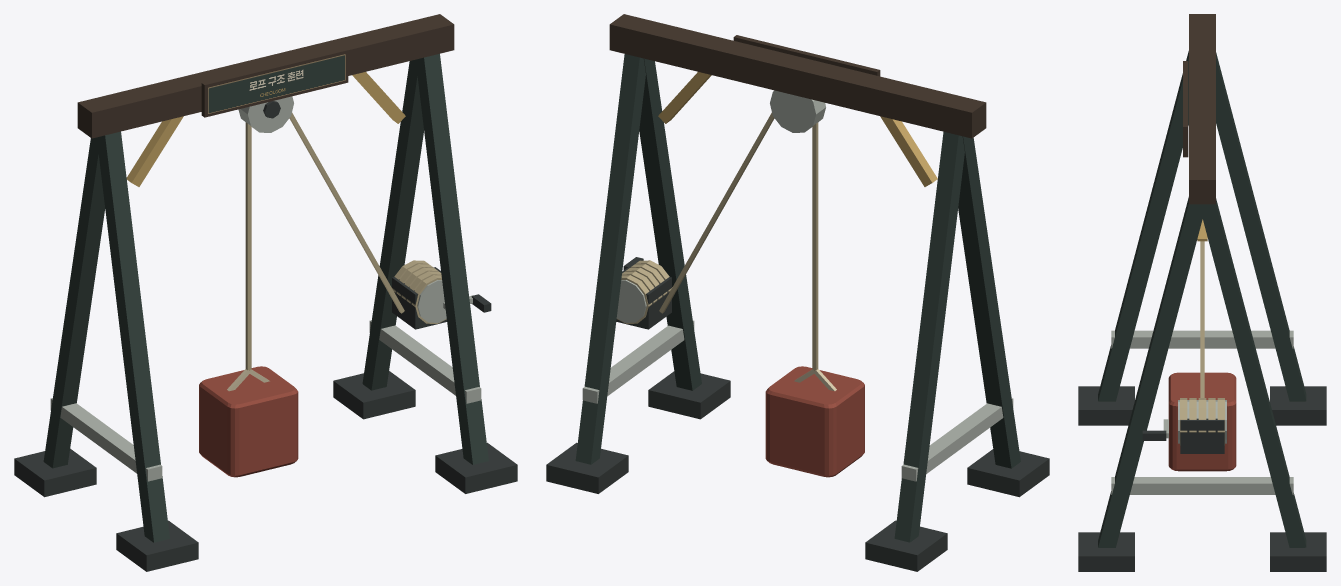
The model's file is 07_Rope_Rescue_Frame.fbx.
3 renders of one model, left to right at view 1: azimuth 30°, elevation 25°; view 2: azimuth 150°, elevation 25°; view 3: azimuth 270°, elevation 25°, orthographic. The views are drawn at different scales.
Visible parts, largest first — view 1: Structure.006, Training_Load; view 2: Structure.006, Training_Load; view 3: Structure.006, Training_Load, Winch_Handle.
Part boxes in pixels (x1,y1,x2,y2): Structure.006: [14, 14, 517, 571]; Training_Load: [199, 366, 298, 477]; Structure.006: [546, 14, 1049, 571]; Training_Load: [765, 366, 864, 477]; Structure.006: [1078, 14, 1326, 571]; Training_Load: [1168, 372, 1236, 471]; Winch_Handle: [1142, 419, 1168, 440].
Bounding box in the file's own units: 261 × 276 × 158.
2 materials, 2 textured.
